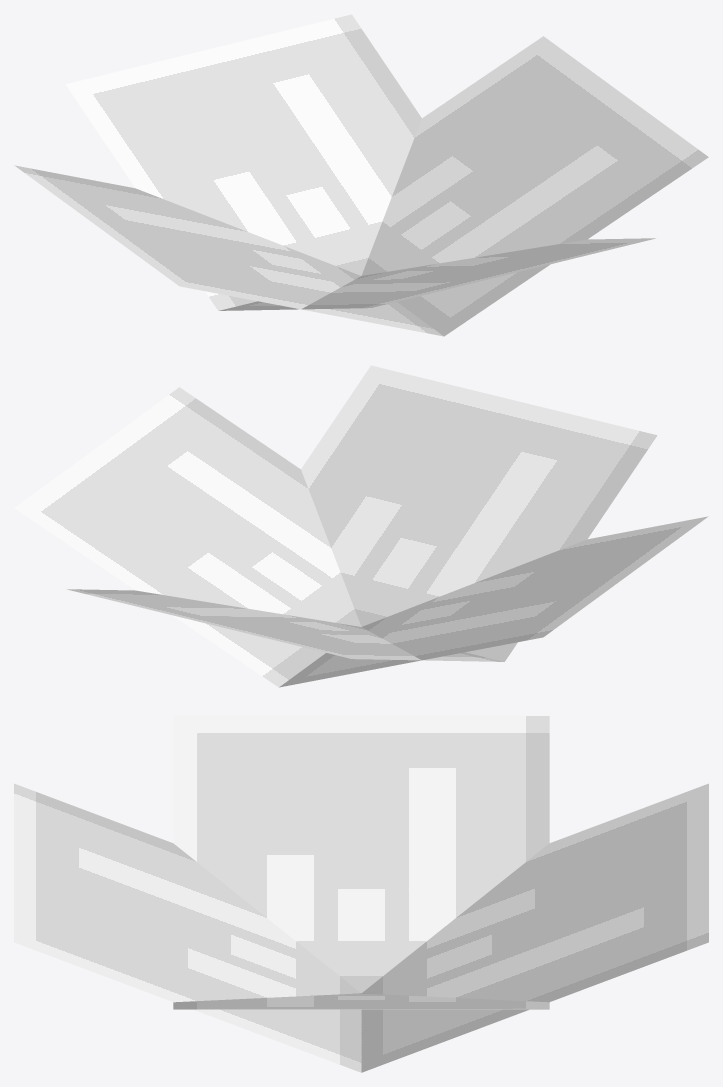
Rendered from block_coral_fan.gltf.
3 views of the same model, one above another, from view 1: azimuth 30°, elevation 25°; view 2: azimuth 150°, elevation 25°; view 3: azimuth 270°, elevation 25° (orthographic). The views are drawn at different scales.
Visible parts, largest first — view 1: cube (×4); view 2: cube (×4); view 3: cube (×4).
Part boxes in pixels (x1,y1,x2,y2): cube (×4): (14,14,708,336); cube (×4): (14,365,708,687); cube (×4): (14,716,708,1072).
Size of the model in its own units: 1.85 by 0.3827 by 1.85.
Materials: 1 (1 with a texture image).
